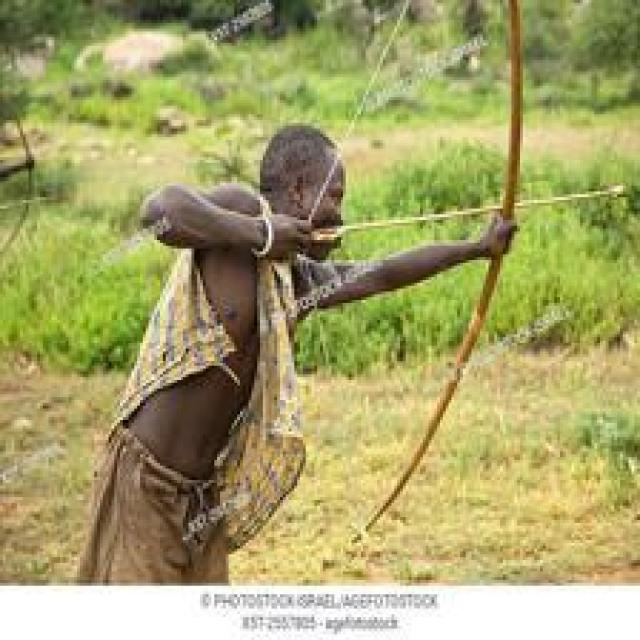X-Bow: (415, 0, 544, 574)
